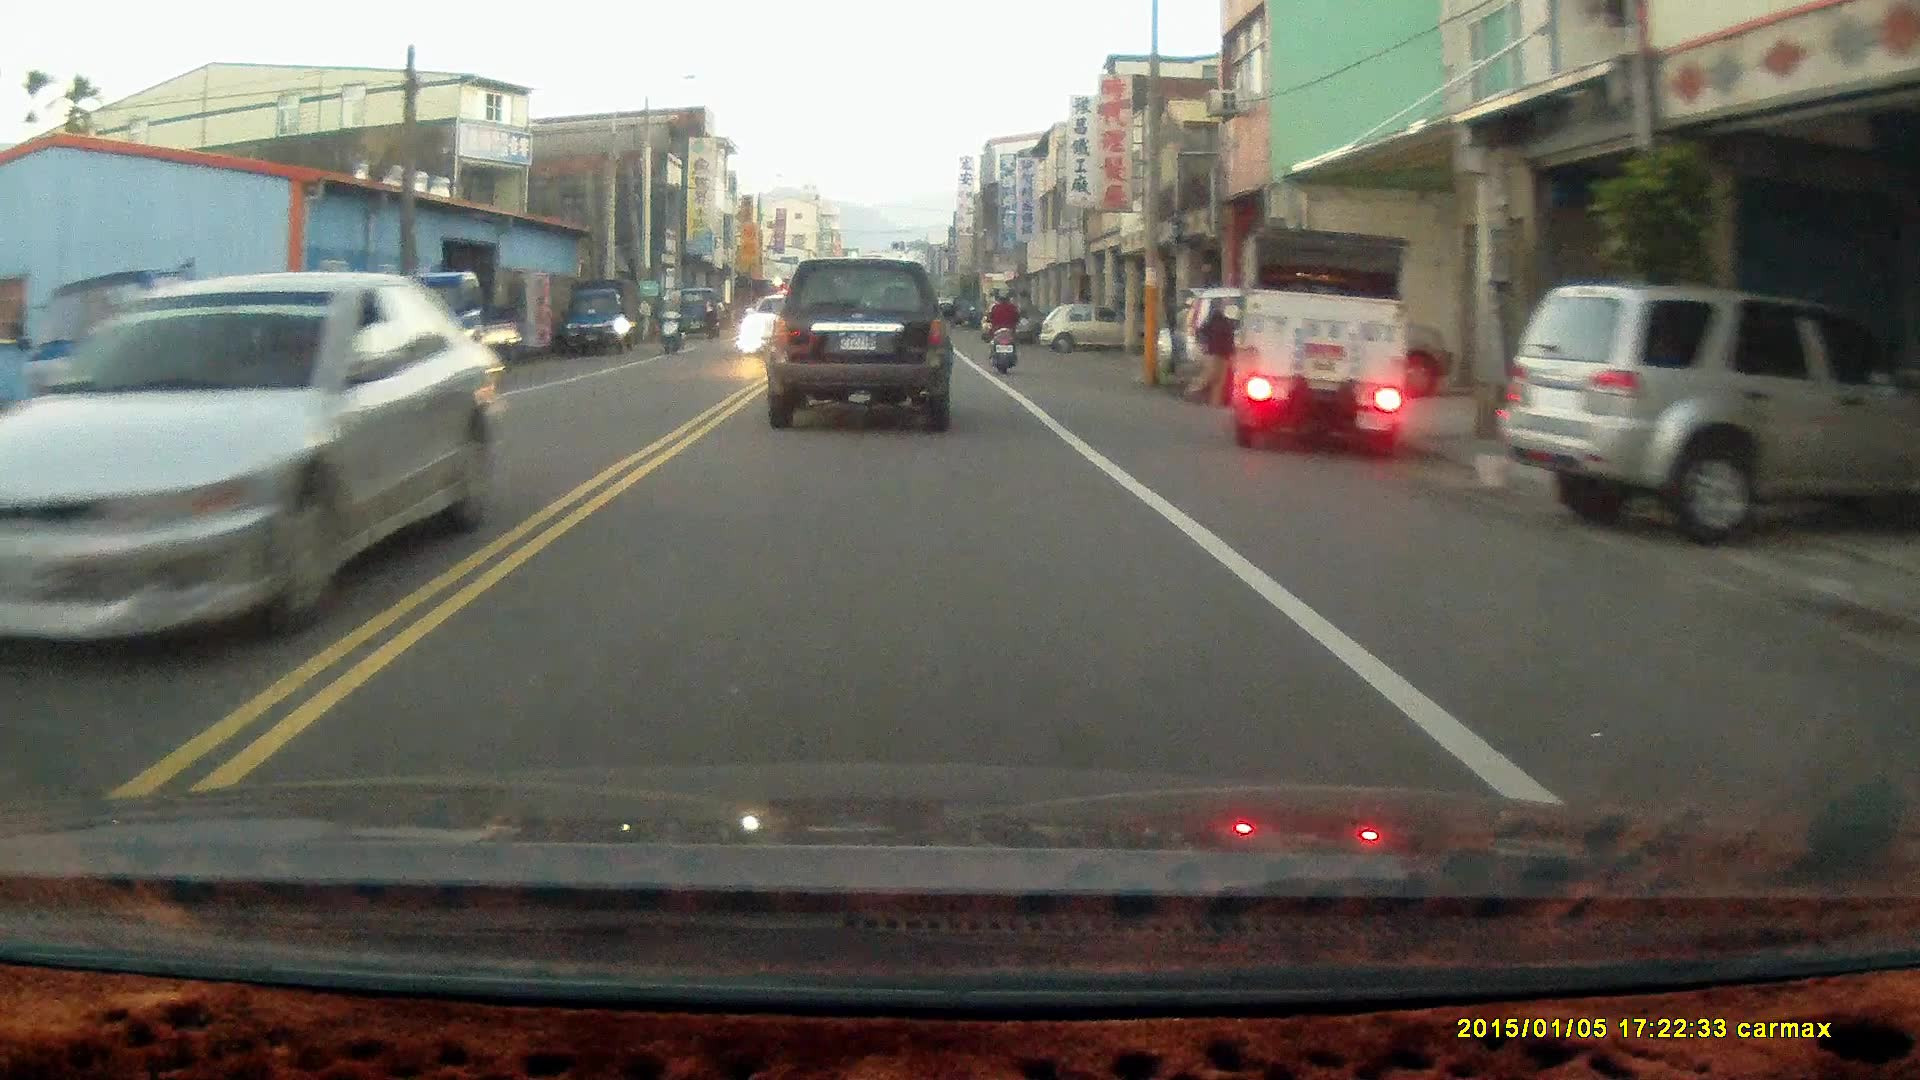pedestrian: (1186, 295, 1234, 405), (699, 292, 719, 341)
rider: (984, 281, 1020, 373), (656, 280, 689, 353)
vehicle: (1, 267, 500, 682), (1510, 280, 1920, 531), (1221, 224, 1412, 453), (1152, 277, 1460, 408), (766, 252, 956, 428), (357, 270, 524, 403), (563, 275, 644, 355), (1045, 303, 1124, 356)
